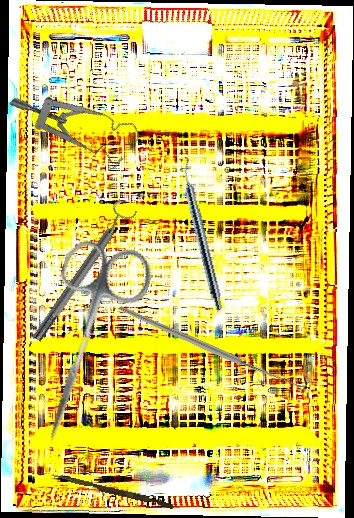Fixation Ring: (24, 198, 140, 346)
Handpiece: (176, 157, 228, 313)
Hook Surgical: (118, 242, 311, 448)
Iris Scissors: (12, 231, 158, 457)
Pusher: (49, 472, 175, 510)
Speculum: (8, 52, 147, 188)
